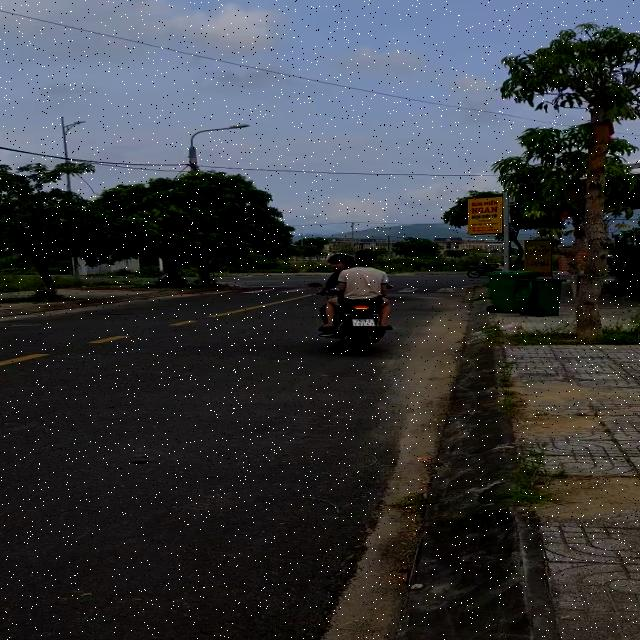helmet: (326, 253, 356, 266)
no_helmet: (354, 251, 377, 264)
